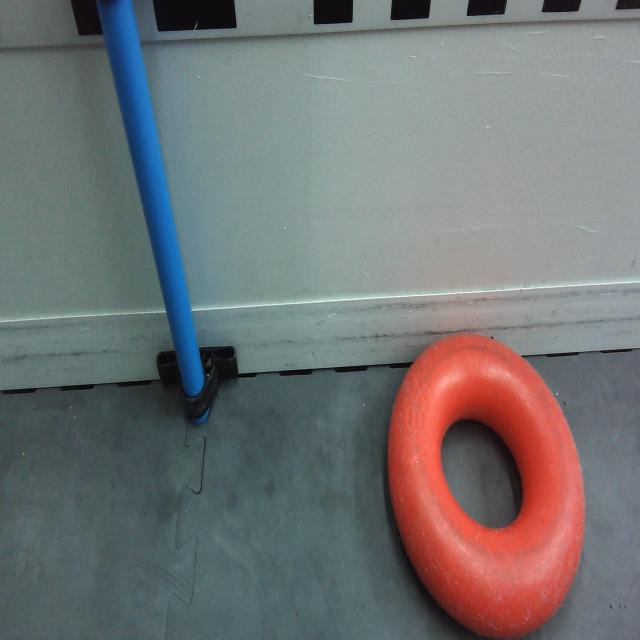Red-Ring: (387, 330, 587, 640)
